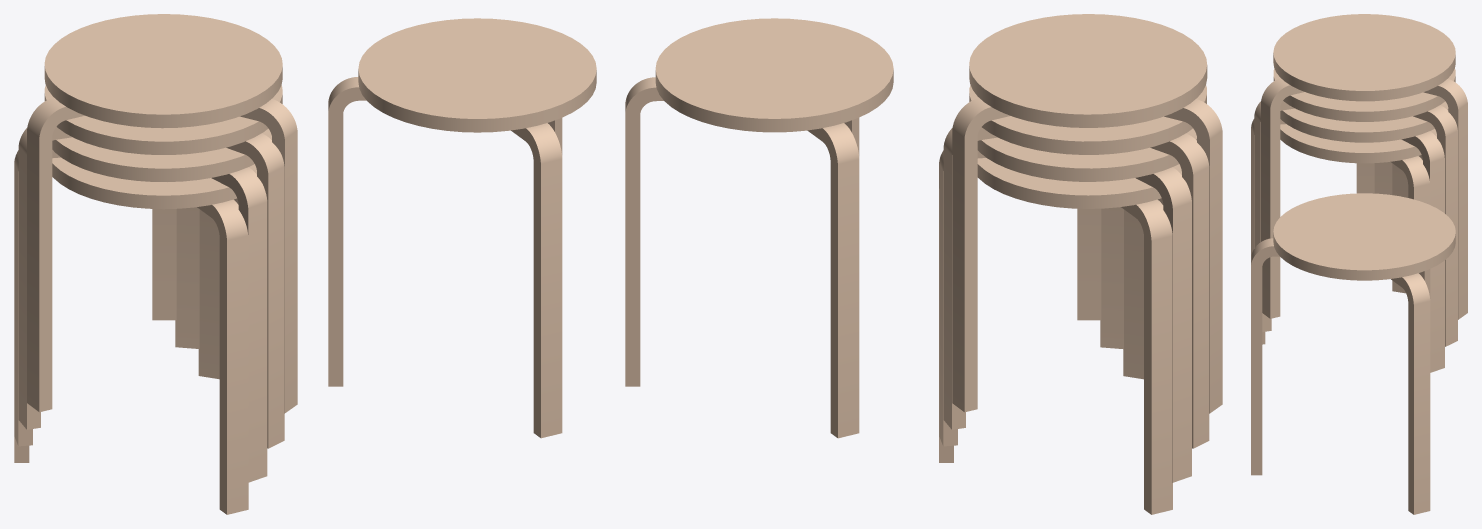
3 views of the same model, side by side, from view 1: azimuth 30°, elevation 25°; view 2: azimuth 150°, elevation 25°; view 3: azimuth 270°, elevation 25° (orthographic). The views are drawn at different scales.
Parts seen in each view (by area): view 1: Mesh5 top2 aalto_stacking_table2 Model, Mesh17 top5 aalto_stacking_table5 Model, Mesh6 leg4 aalto_stacking_table2 Model, Mesh2 leg1 aalto_stacking_table1 Model, Mesh19 leg14 aalto_stacking_table5 Model, Mesh10 leg7 aalto_stacking_table3 Model, Mesh14 leg10 aalto_stacking_table4 Model, Mesh13 top4 aalto_stacking_table4 Model, Mesh7 leg5 aalto_stacking_table2 Model, Mesh9 top3 aalto_stacking_table3 Model, Mesh18 leg13 aalto_stacking_table5 Model, Mesh1 top1 aalto_stacking_table1 Model (+5 smaller); view 2: Mesh5 top2 aalto_stacking_table2 Model, Mesh17 top5 aalto_stacking_table5 Model, Mesh7 leg5 aalto_stacking_table2 Model, Mesh3 leg2 aalto_stacking_table1 Model, Mesh20 leg15 aalto_stacking_table5 Model, Mesh11 leg8 aalto_stacking_table3 Model, Mesh15 leg11 aalto_stacking_table4 Model, Mesh13 top4 aalto_stacking_table4 Model, Mesh8 leg6 aalto_stacking_table2 Model, Mesh19 leg14 aalto_stacking_table5 Model, Mesh9 top3 aalto_stacking_table3 Model, Mesh1 top1 aalto_stacking_table1 Model (+5 smaller); view 3: Mesh5 top2 aalto_stacking_table2 Model, Mesh17 top5 aalto_stacking_table5 Model, Mesh8 leg6 aalto_stacking_table2 Model, Mesh18 leg13 aalto_stacking_table5 Model, Mesh13 top4 aalto_stacking_table4 Model, Mesh16 leg12 aalto_stacking_table4 Model, Mesh12 leg9 aalto_stacking_table3 Model, Mesh9 top3 aalto_stacking_table3 Model, Mesh6 leg4 aalto_stacking_table2 Model, Mesh20 leg15 aalto_stacking_table5 Model, Mesh1 top1 aalto_stacking_table1 Model, Mesh14 leg10 aalto_stacking_table4 Model (+5 smaller).
Boxes of the visible parts, x1,y1,x2,y2 form: Mesh5 top2 aalto_stacking_table2 Model: (358,18,596,132); Mesh17 top5 aalto_stacking_table5 Model: (44,14,282,128); Mesh6 leg4 aalto_stacking_table2 Model: (511,123,562,438); Mesh2 leg1 aalto_stacking_table1 Model: (197,199,248,514); Mesh19 leg14 aalto_stacking_table5 Model: (27,97,84,412); Mesh10 leg7 aalto_stacking_table3 Model: (211,167,267,482); Mesh14 leg10 aalto_stacking_table4 Model: (226,133,284,448); Mesh13 top4 aalto_stacking_table4 Model: (44,85,282,154); Mesh7 leg5 aalto_stacking_table2 Model: (328,77,366,386); Mesh9 top3 aalto_stacking_table3 Model: (52,128,271,181); Mesh18 leg13 aalto_stacking_table5 Model: (240,99,297,413); Mesh1 top1 aalto_stacking_table1 Model: (52,157,256,209); Mesh5 top2 aalto_stacking_table2 Model: (655,18,893,132); Mesh17 top5 aalto_stacking_table5 Model: (969,14,1207,127); Mesh7 leg5 aalto_stacking_table2 Model: (807,123,859,438); Mesh3 leg2 aalto_stacking_table1 Model: (1121,199,1172,514); Mesh20 leg15 aalto_stacking_table5 Model: (952,98,1010,412); Mesh11 leg8 aalto_stacking_table3 Model: (1136,167,1191,482); Mesh15 leg11 aalto_stacking_table4 Model: (1150,133,1209,448); Mesh13 top4 aalto_stacking_table4 Model: (969,85,1206,154); Mesh8 leg6 aalto_stacking_table2 Model: (625,77,663,386); Mesh19 leg14 aalto_stacking_table5 Model: (1164,99,1222,413); Mesh9 top3 aalto_stacking_table3 Model: (977,128,1196,181); Mesh1 top1 aalto_stacking_table1 Model: (977,158,1181,208); Mesh5 top2 aalto_stacking_table2 Model: (1273,193,1455,280); Mesh17 top5 aalto_stacking_table5 Model: (1273,14,1455,101); Mesh8 leg6 aalto_stacking_table2 Model: (1391,273,1430,514); Mesh18 leg13 aalto_stacking_table5 Model: (1261,78,1304,318); Mesh13 top4 aalto_stacking_table4 Model: (1273,68,1455,121); Mesh16 leg12 aalto_stacking_table4 Model: (1413,105,1457,346); Mesh12 leg9 aalto_stacking_table3 Model: (1401,131,1444,372); Mesh9 top3 aalto_stacking_table3 Model: (1280,101,1448,142); Mesh6 leg4 aalto_stacking_table2 Model: (1251,238,1279,475); Mesh20 leg15 aalto_stacking_table5 Model: (1423,79,1467,319); Mesh1 top1 aalto_stacking_table1 Model: (1280,124,1436,163); Mesh14 leg10 aalto_stacking_table4 Model: (1254,101,1294,331).
Bounding box in the file's own units: 32.58 × 21.88 × 14.27.
